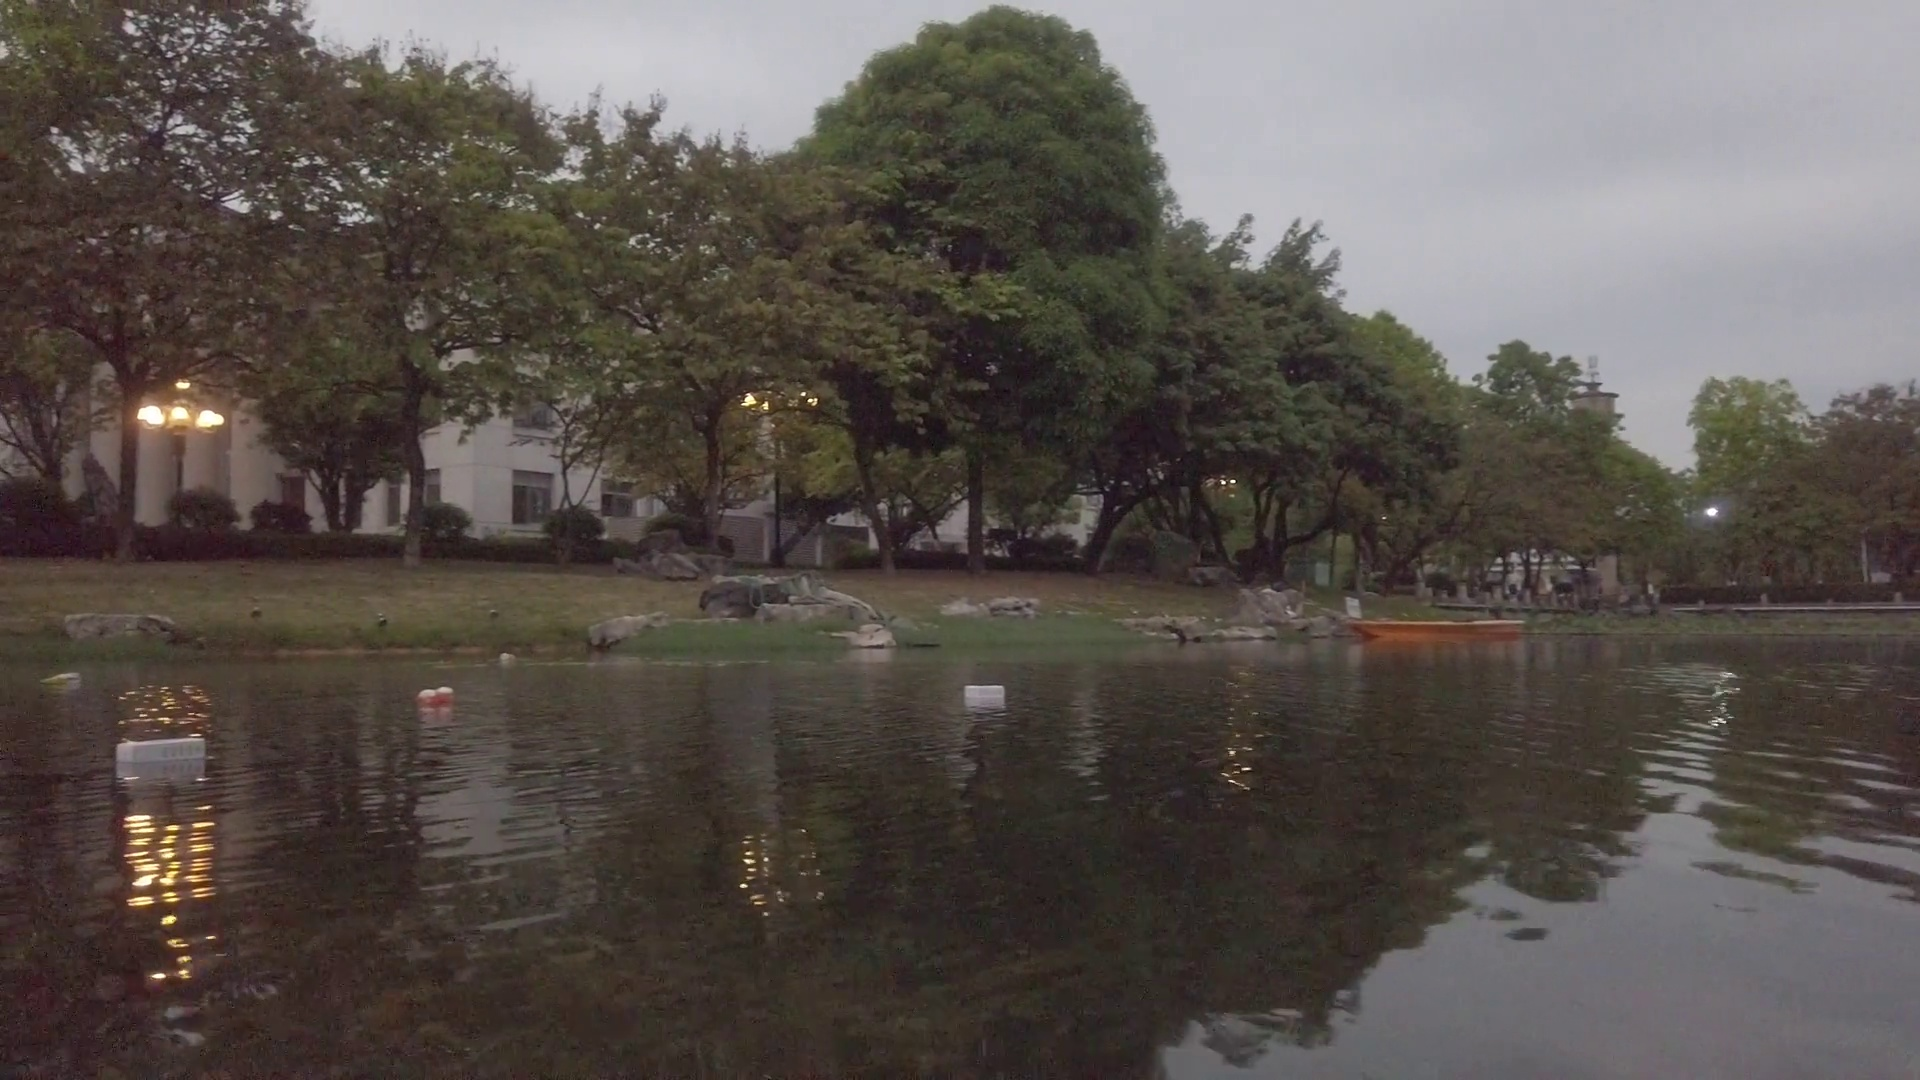bottle: (415, 684, 454, 703), (41, 673, 84, 688), (498, 651, 514, 662)
carton: (117, 735, 204, 764), (967, 683, 1005, 699)
